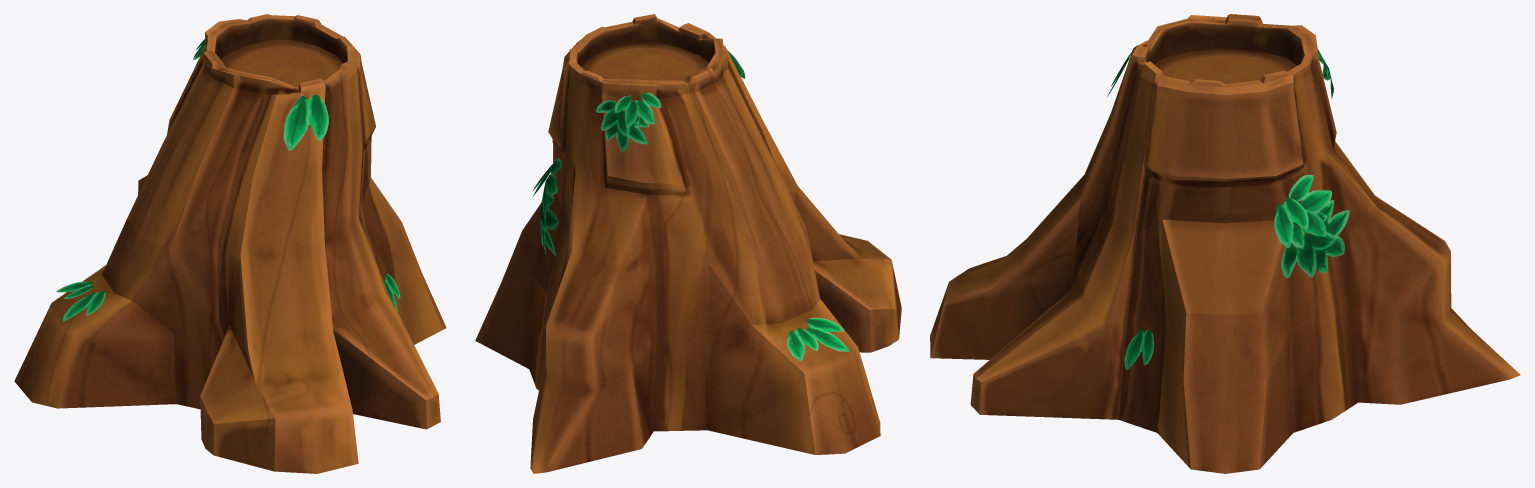
File: 9_Tronco_Verde_Oscuro.fbx
The picture shows the model from 3 angles, left to right: view 1: azimuth 30°, elevation 25°; view 2: azimuth 150°, elevation 25°; view 3: azimuth 270°, elevation 25°; orthographic projection. The views are drawn at different scales.
Parts seen in each view (by area): view 1: 9_Tronco_Verde_Oscuro; view 2: 9_Tronco_Verde_Oscuro; view 3: 9_Tronco_Verde_Oscuro.
Boxes of the visible parts, x1,y1,x2,y2 form: 9_Tronco_Verde_Oscuro: [14, 14, 446, 473]; 9_Tronco_Verde_Oscuro: [475, 14, 901, 473]; 9_Tronco_Verde_Oscuro: [930, 14, 1520, 473].
Size of the model in its own units: 194 by 144 by 226.
